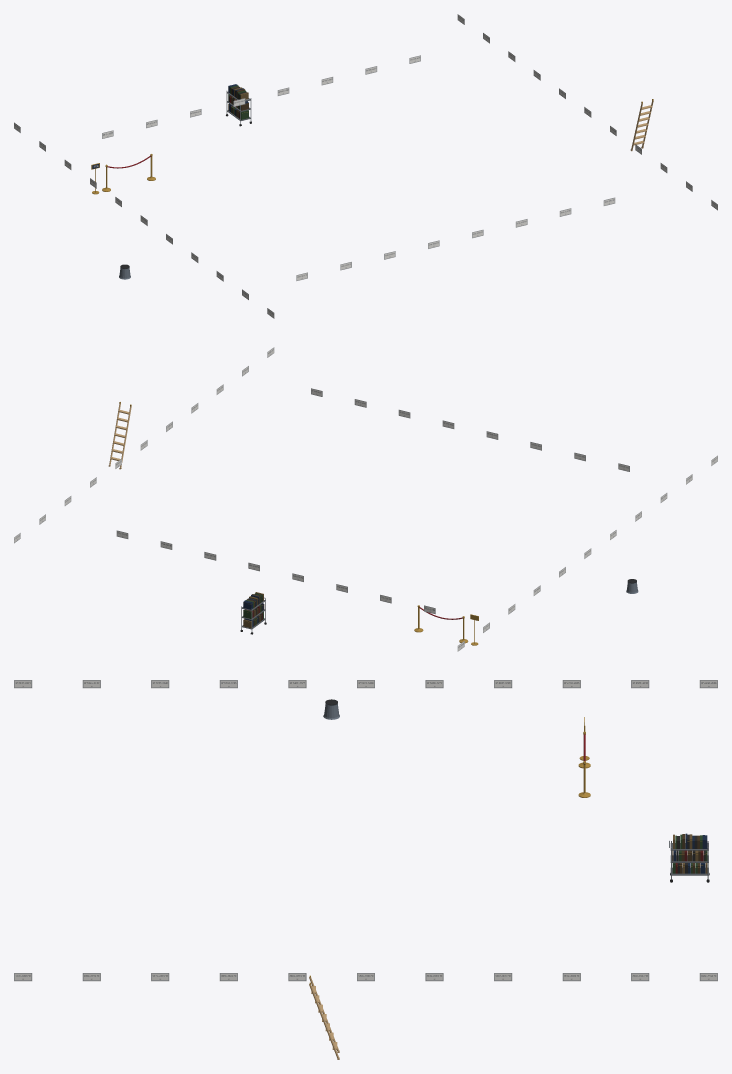
Rendered from us_lawlib_2f.glb.
3 renders of one model, top to bottom at view 1: azimuth 30°, elevation 25°; view 2: azimuth 150°, elevation 25°; view 3: azimuth 270°, elevation 25°, orthographic. The views are drawn at different scales.
Visible parts, largest first — view 1: us_lawlib_2f_plates, us_lawlib_2f_props, us_lawlib_2f_metal; view 2: us_lawlib_2f_plates, us_lawlib_2f_props, us_lawlib_2f_metal; view 3: us_lawlib_2f_plates, us_lawlib_2f_props, us_lawlib_2f_metal.
Part boxes in pixels (x1,y1,x2,y2): us_lawlib_2f_plates: [14, 14, 717, 318]; us_lawlib_2f_props: [107, 84, 653, 279]; us_lawlib_2f_metal: [91, 91, 653, 194]; us_lawlib_2f_plates: [14, 347, 717, 651]; us_lawlib_2f_props: [109, 403, 638, 634]; us_lawlib_2f_metal: [119, 402, 478, 645]; us_lawlib_2f_plates: [14, 680, 717, 981]; us_lawlib_2f_props: [309, 699, 709, 1058]; us_lawlib_2f_metal: [309, 717, 708, 984].
Bounding box in the file's own units: 21.57 × 2.22 × 18.48.
Materials: 4 (2 with a texture image).
